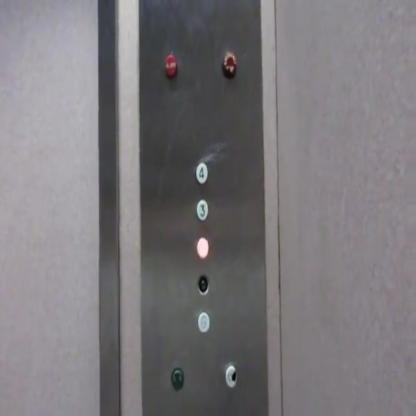3: (194, 197, 210, 222)
4: (193, 161, 209, 186)
G: (196, 309, 212, 335)
blur: (223, 363, 239, 389), (169, 366, 185, 391)
empty: (195, 234, 211, 259)
indicator: (195, 272, 211, 298)
text: (163, 52, 179, 79)
text_blur: (220, 47, 240, 80)
